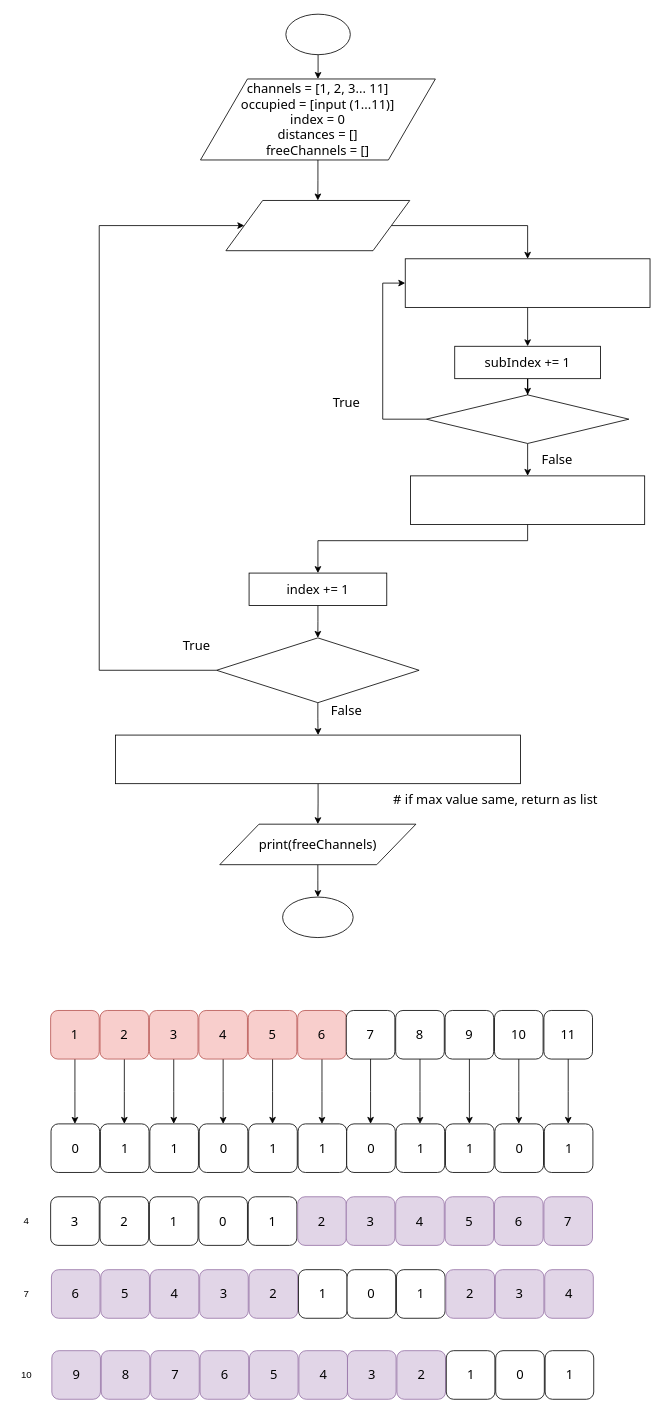
Image size: 664x1413. Some labels were removed from this diagram. The shapes that lost their labels are listed below. From the top down, each one's box as (x1, y1, x2, y2) in pixels, then its label:
(285, 13, 350, 55): Start
(225, 200, 410, 251): subIndex = 0 subDistances = []
(404, 258, 650, 307): subDistances[subIndex] = |channels[index] - occupied[subindex]|
(426, 394, 629, 443): subIndex < len(occupied)
(410, 475, 645, 524): distances[index] = min(subDistances)
(216, 637, 419, 703): index < len(channels)
(115, 734, 521, 784): freeChannels = channel[distance.index(max(distance))]
(282, 896, 353, 938): End
